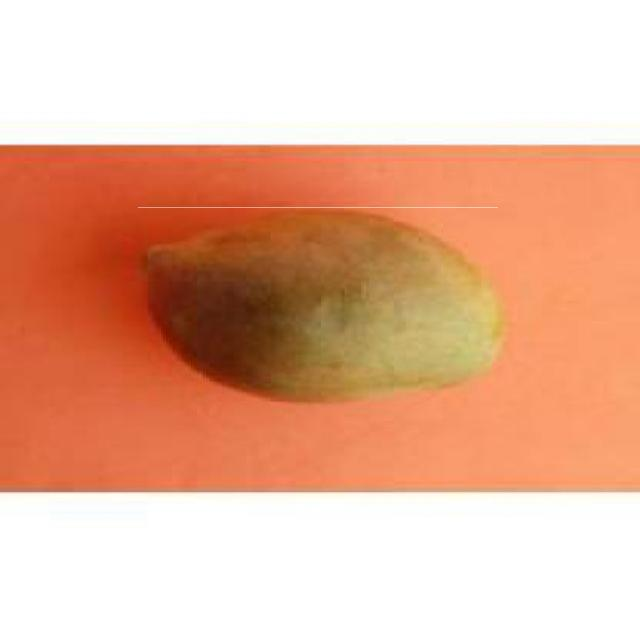mango: (138, 207, 498, 402)
